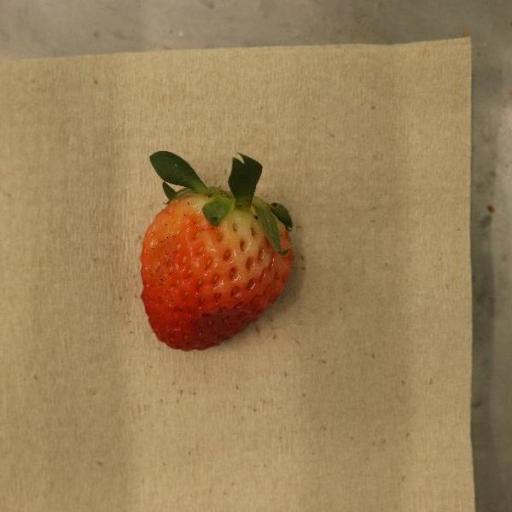Strawberry: (141, 151, 294, 352)
